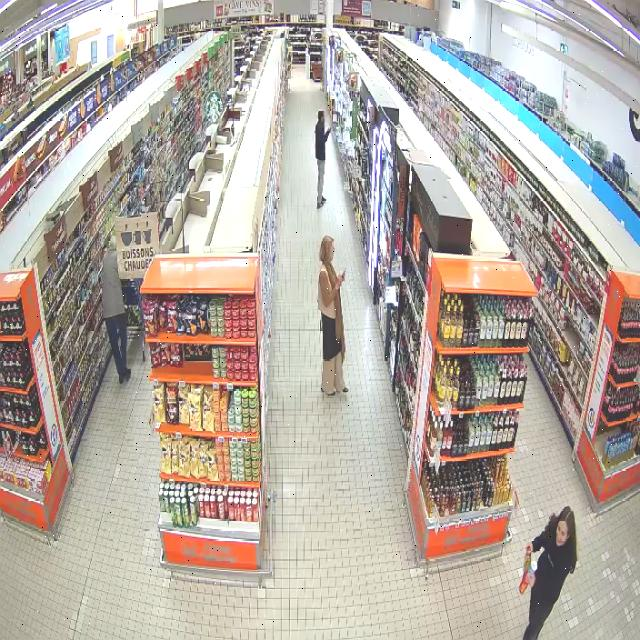article: (518, 560, 538, 595), (523, 545, 531, 576), (330, 129, 337, 141)
hands: (526, 574, 535, 587), (335, 275, 343, 289), (525, 544, 533, 554), (341, 270, 345, 281), (327, 127, 331, 133)
person: (523, 506, 576, 639), (315, 236, 348, 396), (102, 237, 130, 383), (315, 109, 330, 207)
